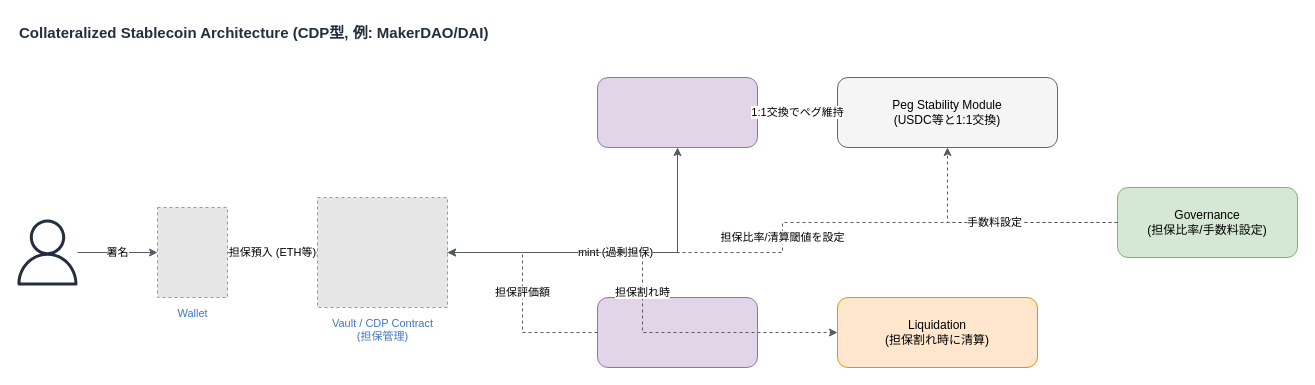
Some shapes in this 1315 by 385 pixel diagram are drawn without their labels. Grey dashed boxes stand in for pictures. The box of each missing label's shape, as (x1, y1, x2, y2) in pixels:
Price Oracle: (596, 296, 758, 368)
Stablecoin (例: DAI): (596, 76, 758, 148)
User: (17, 217, 77, 287)
